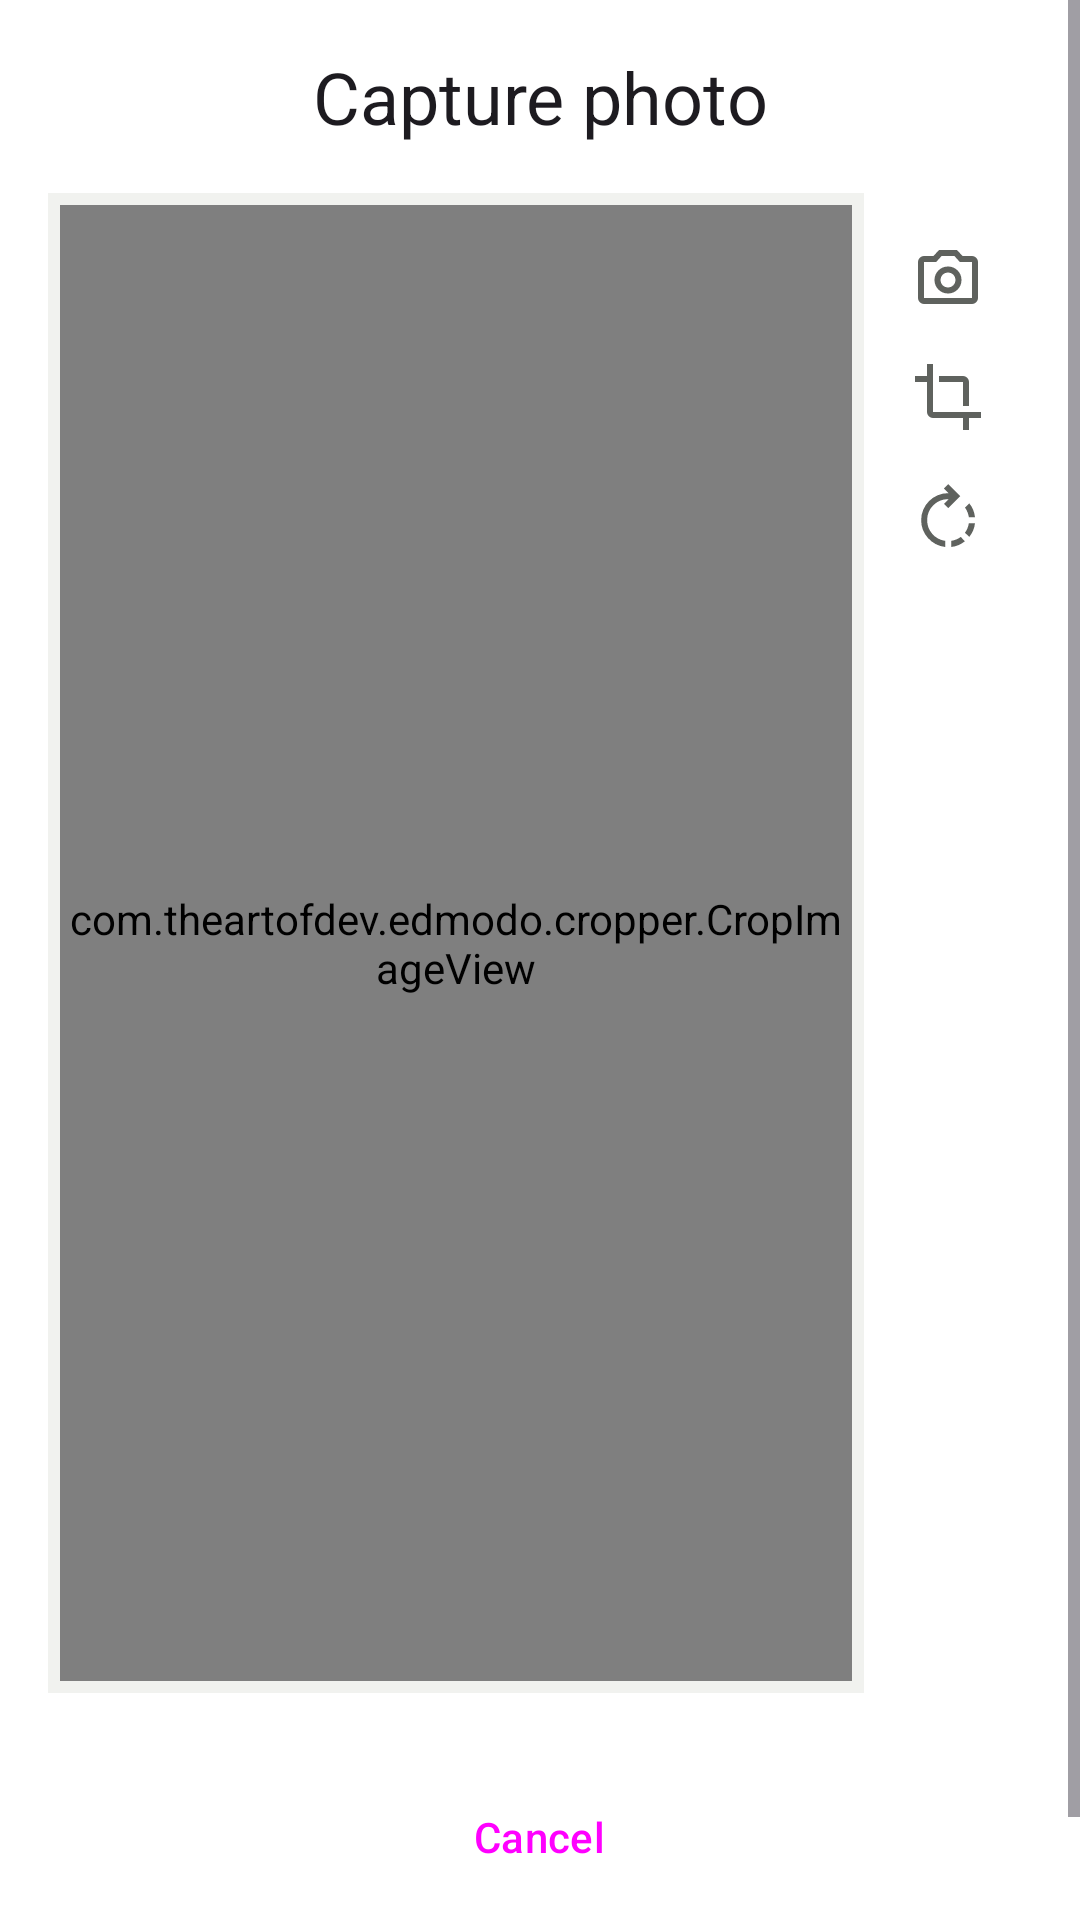

Icons on this 1080px x 1920px Android screen, each with its box as (x1, y1, x2, y2):
Open camera: (918, 250, 978, 304)
Rotate image: (921, 484, 975, 547)
